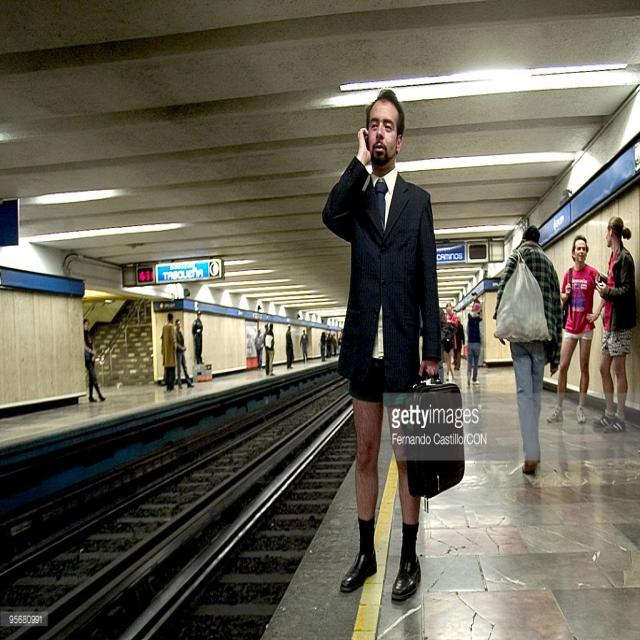body: (320, 88, 442, 605), (489, 222, 565, 479), (546, 234, 606, 426), (590, 212, 638, 436), (80, 316, 106, 404), (173, 318, 195, 390), (160, 311, 179, 394), (466, 301, 484, 387), (442, 301, 459, 383), (190, 308, 205, 366), (453, 316, 466, 372), (263, 322, 276, 377), (253, 327, 265, 372), (263, 322, 271, 376), (300, 329, 310, 363), (286, 324, 293, 370), (471, 291, 481, 316), (325, 332, 334, 358), (320, 330, 326, 362), (330, 334, 338, 356), (337, 332, 343, 356)
